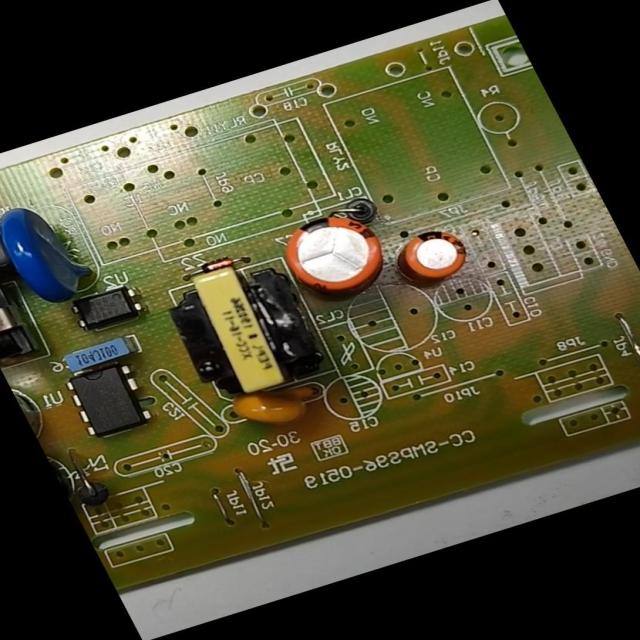Cap1: (269, 203, 401, 307)
Cap2: (391, 223, 479, 291)
MOSFET: (58, 357, 162, 445)
Mov: (0, 192, 106, 311)
Transformer: (148, 251, 335, 412), (0, 272, 45, 366)
